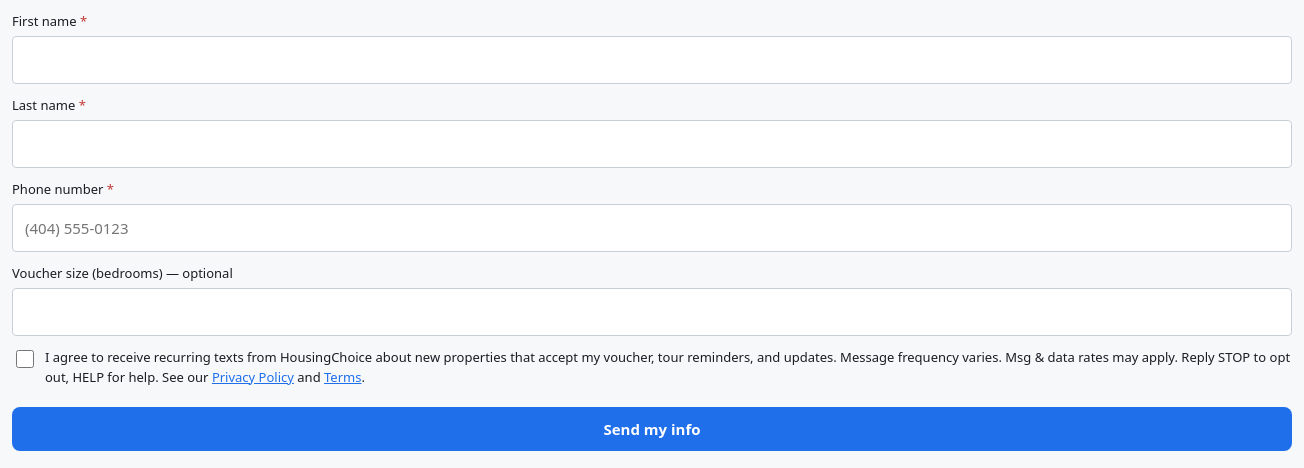
Test: IntakeForm — phone normalize-on-blur › blur with dashed 10-digit snaps the field to display form
In the field labelled "Phone number *": (652, 228) top-left (12, 204), bottom-right (1292, 252), type "404-982-4978"
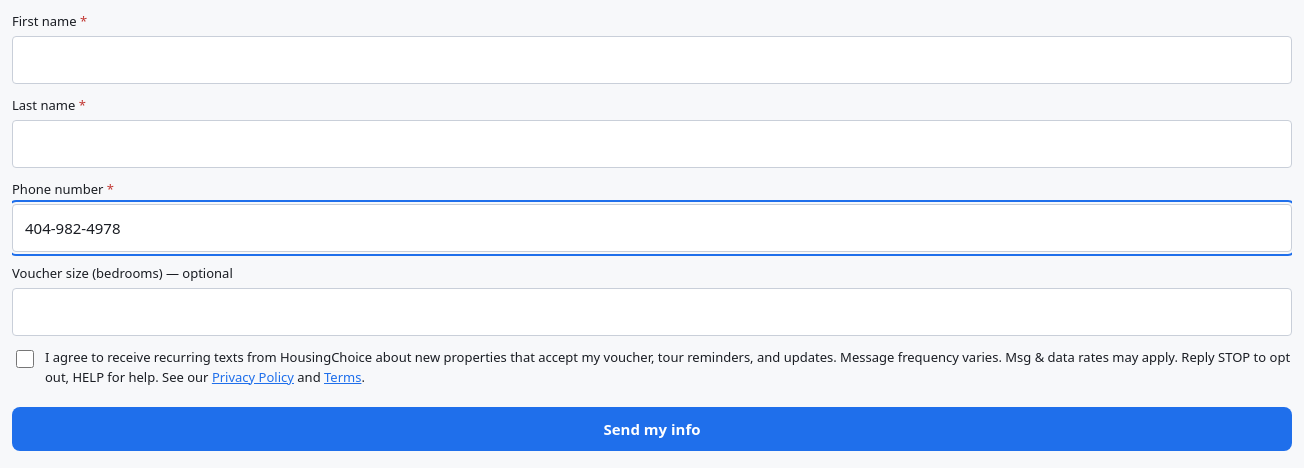
Press Tab
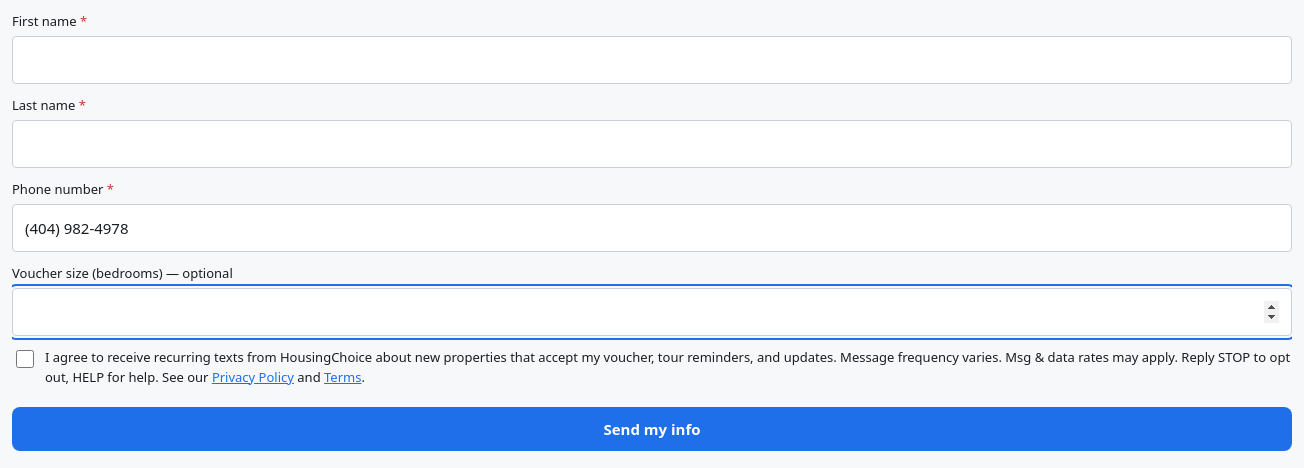
Now the field labelled "Phone number *" holds "(404) 982-4978", box top-left (12, 204), bottom-right (1292, 252)
